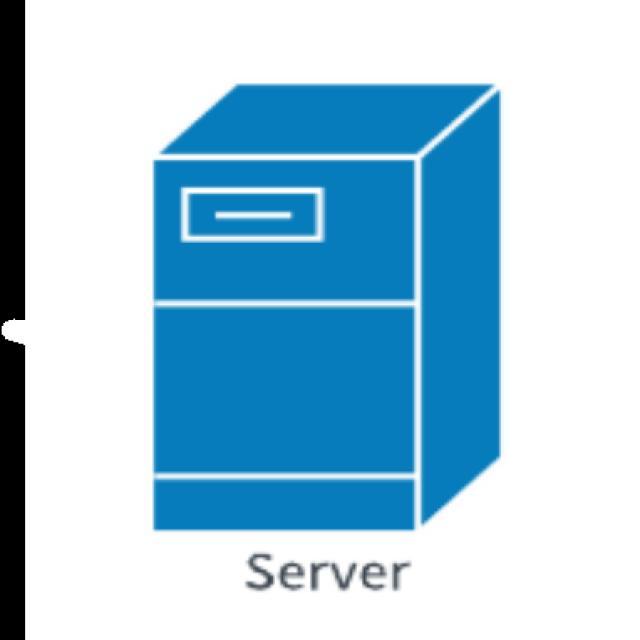Server: (70, 12, 532, 548)
